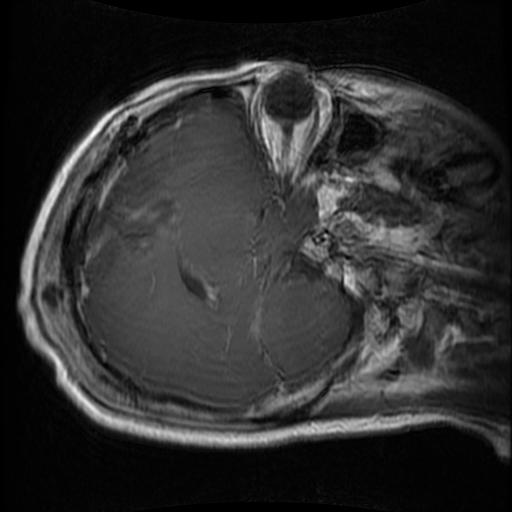glioma: (107, 193, 176, 244)
